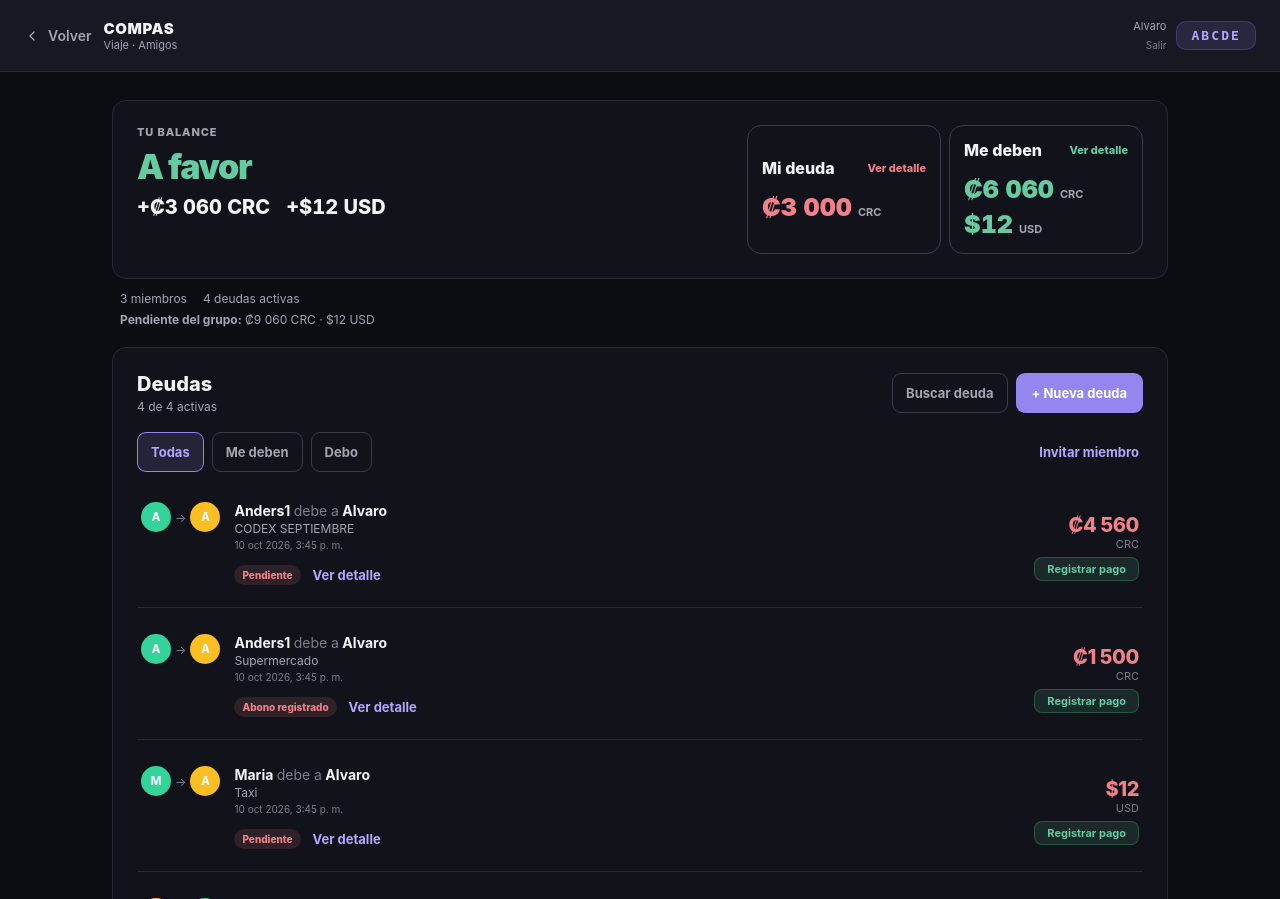
GroupPage debt cards › shows how much the signed-in member is owed by each debtor
Click the button "Me deben Ver detalle ₡6 060CRC $12USD". click: (1046, 190)
box: [949,125,1143,254]
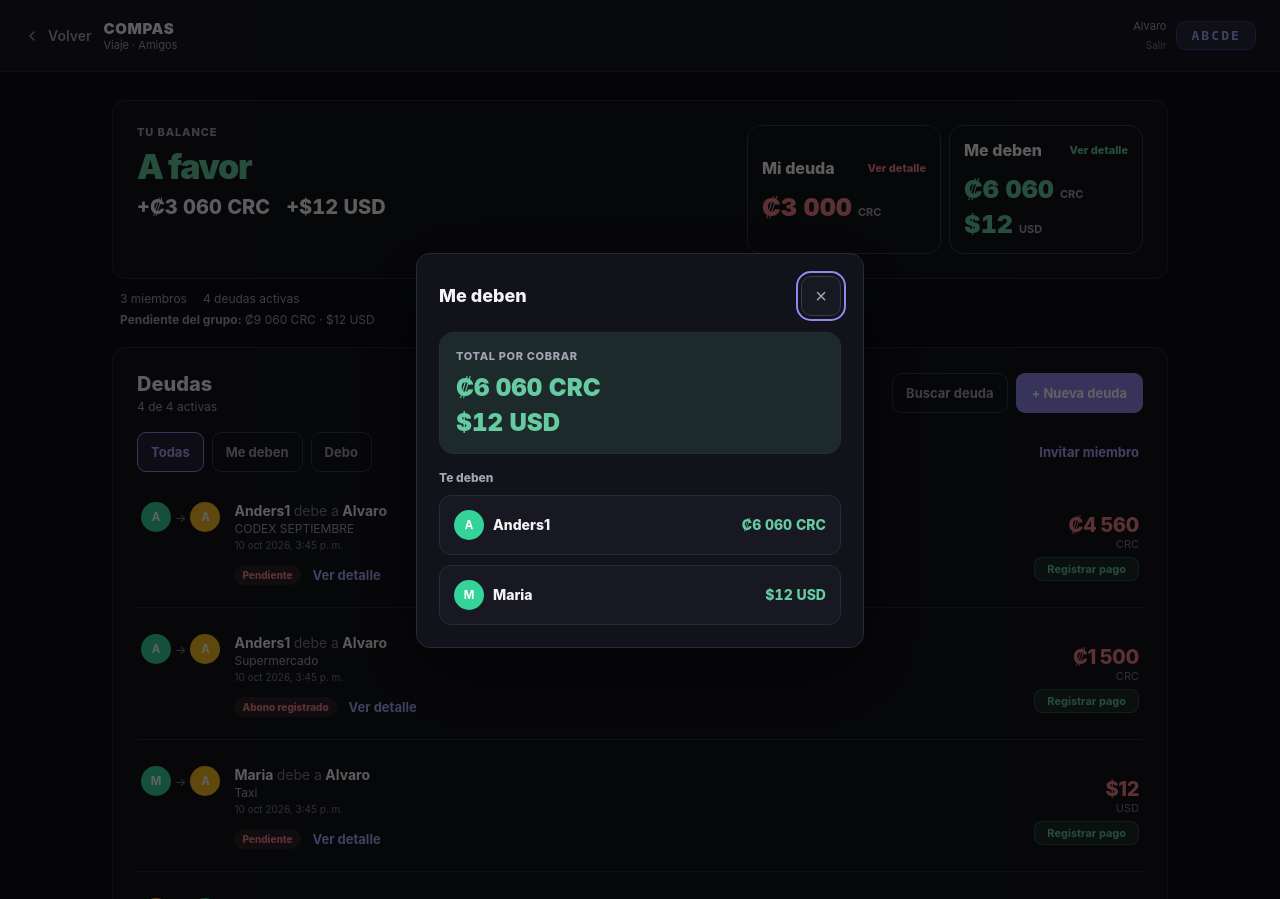
Expected: the text "₡6 060 CRC" below "Total por cobrar" is shown, [456,372,601,402]
Expected: the text "$12 USD" below "Total por cobrar" is shown, [456,408,560,436]
Expected: the text "₡6 060 CRC" below "Te deben" is shown, [742,516,826,533]
